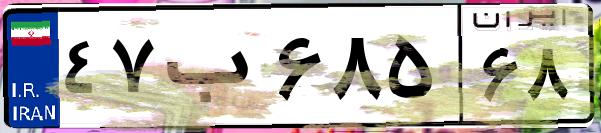4: (57, 26, 110, 100)
5: (385, 28, 445, 110)
6: (270, 28, 330, 110), (475, 38, 525, 113)
7: (110, 28, 158, 98)
8: (330, 28, 385, 110), (525, 38, 570, 115)
ب: (158, 20, 270, 120)
